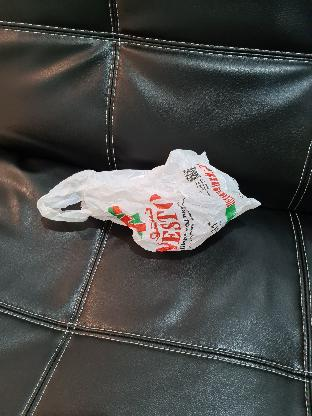Plastic Bag: (34, 148, 264, 260)
